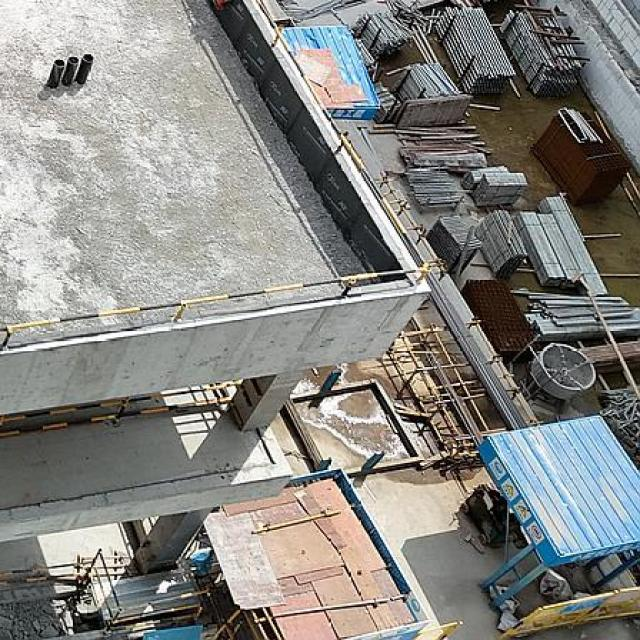edge_guardrail: (0, 0, 434, 350), (0, 380, 253, 437), (0, 562, 74, 584)
